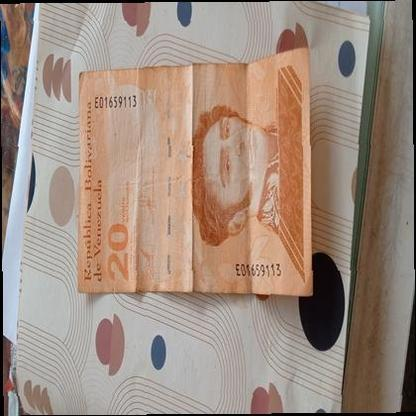twenty-front-vef: (76, 47, 314, 296)
